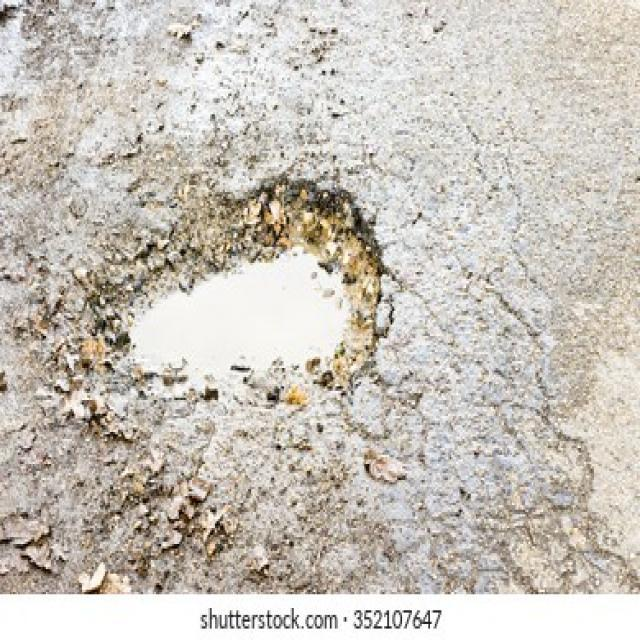Pothole: (80, 172, 396, 412)
